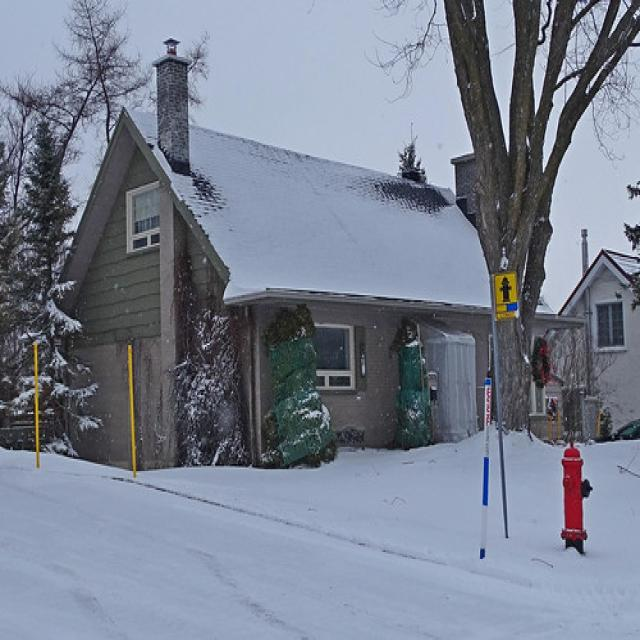building: (47, 41, 494, 473)
